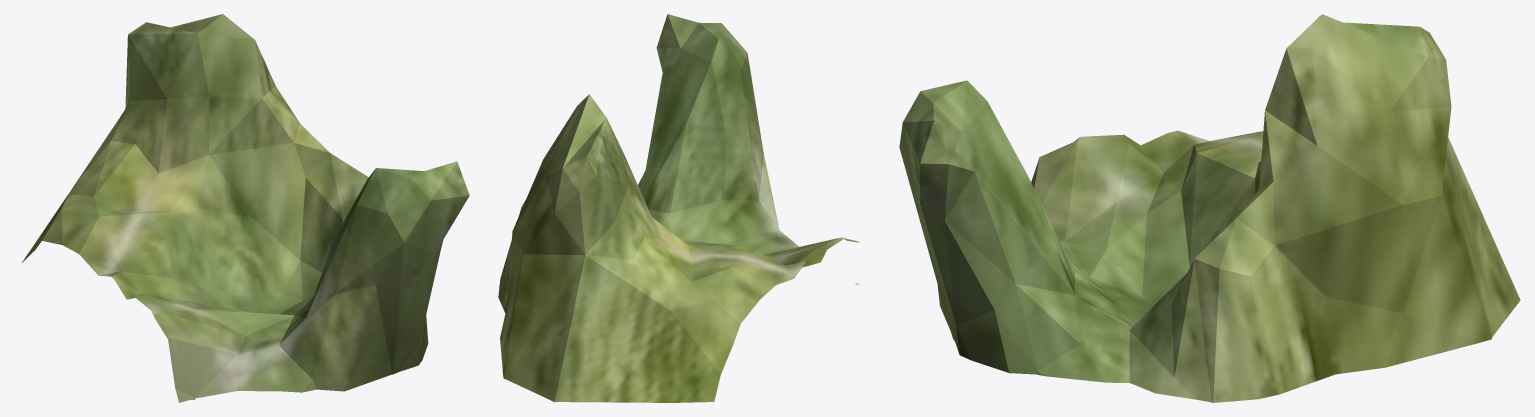
3 views of the same model, side by side, from view 1: azimuth 30°, elevation 25°; view 2: azimuth 150°, elevation 25°; view 3: azimuth 270°, elevation 25° (orthographic). The views are drawn at different scales.
Bounding box in the file's own units: 0.7136 × 0.584 × 1.05.
Materials: 1 (1 with a texture image).
